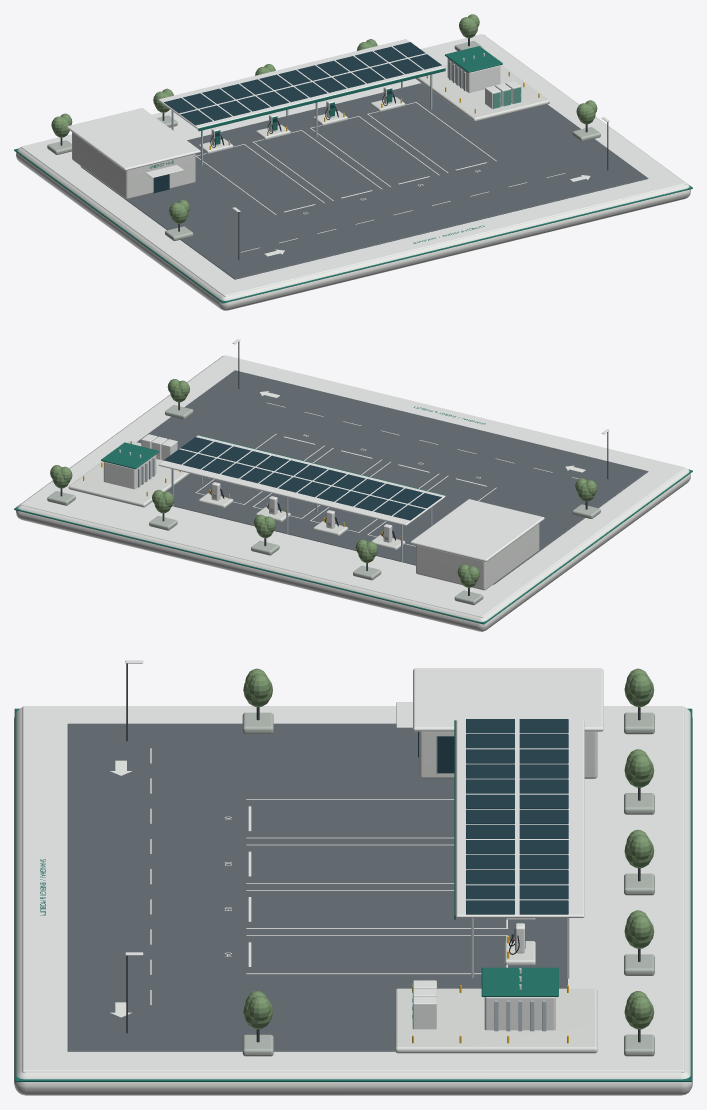
File: s1-yard.glb
The picture shows the model from 3 angles, top to bottom: view 1: azimuth 30°, elevation 25°; view 2: azimuth 150°, elevation 25°; view 3: azimuth 270°, elevation 25°; orthographic projection. The views are drawn at different scales.
Visible parts, largest first — view 1: S1|asphalt, S1|surface, S1|foundation, S1|office-roof, S1|canopy, S1|office, UST1|pad, S1|edge-inlay, UST1|enclosure, S1|canopy-fascia, UST1|roof; view 2: S1|asphalt, S1|surface, S1|foundation, S1|office-roof, S1|canopy, S1|office, UST1|pad, S1|edge-inlay, UST1|enclosure, UST1|roof; view 3: S1|asphalt, S1|surface, S1|foundation, S1|office-roof, UST1|pad, S1|canopy, S1|edge-inlay, UST1|roof, UST1|enclosure, S1|office, UST1|switchgear.002, S1|solar-panel.005 (+33 smaller).
Part boxes in pixels (box(x1,y1,x2,y2)): S1|asphalt: box(80, 83, 648, 279); S1|surface: box(20, 34, 686, 296); S1|foundation: box(16, 36, 690, 310); S1|office-roof: box(66, 108, 200, 170); S1|canopy: box(158, 39, 444, 129); S1|office: box(72, 132, 195, 199); UST1|pad: box(415, 65, 549, 121); S1|edge-inlay: box(14, 35, 692, 303); UST1|enclosure: box(447, 58, 500, 92); S1|canopy-fascia: box(198, 68, 445, 131); UST1|roof: box(445, 46, 502, 72); S1|asphalt: box(137, 370, 648, 584); S1|surface: box(20, 355, 686, 617); S1|foundation: box(16, 357, 690, 631); S1|office-roof: box(410, 499, 544, 561); S1|canopy: box(158, 435, 445, 525); S1|office: box(416, 523, 539, 590); UST1|pad: box(68, 441, 190, 507); S1|edge-inlay: box(14, 356, 692, 624); UST1|enclosure: box(103, 454, 156, 489); UST1|roof: box(101, 442, 159, 469); S1|asphalt: box(67, 723, 567, 1051); S1|surface: box(22, 706, 684, 1072); S1|foundation: box(14, 707, 692, 1095); S1|office-roof: box(413, 668, 603, 731); UST1|pad: box(395, 988, 597, 1053); S1|canopy: box(456, 719, 584, 917); S1|edge-inlay: box(14, 708, 692, 1081); UST1|roof: box(481, 967, 558, 996); UST1|enclosure: box(484, 997, 555, 1030); S1|office: box(419, 731, 597, 778); UST1|switchgear.002: box(413, 996, 436, 1029); S1|solar-panel.005: box(519, 749, 568, 763).
Size of the model in its own units: 74 by 9.86 by 57.
